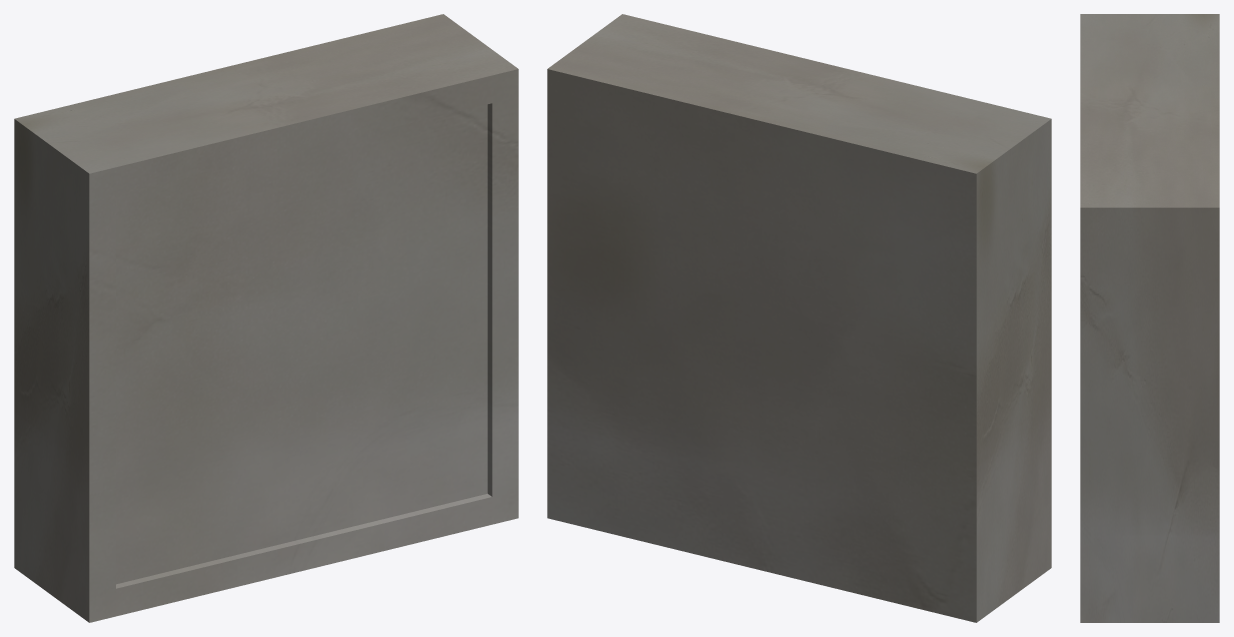
The model's file is chodnik.fbx.
3 views of the same model, side by side, from view 1: azimuth 30°, elevation 25°; view 2: azimuth 150°, elevation 25°; view 3: azimuth 270°, elevation 25° (orthographic). The views are drawn at different scales.
Visible parts, largest first — view 1: Cube; view 2: Cube; view 3: Cube.
Boxes of the visible parts, box(x1,y1,x2,y2) form: Cube: box(14, 14, 518, 622); Cube: box(547, 14, 1051, 622); Cube: box(1080, 14, 1219, 622).
Bounding box in the file's own units: 200 × 200 × 60.67.
Materials: 1 (1 with a texture image).
